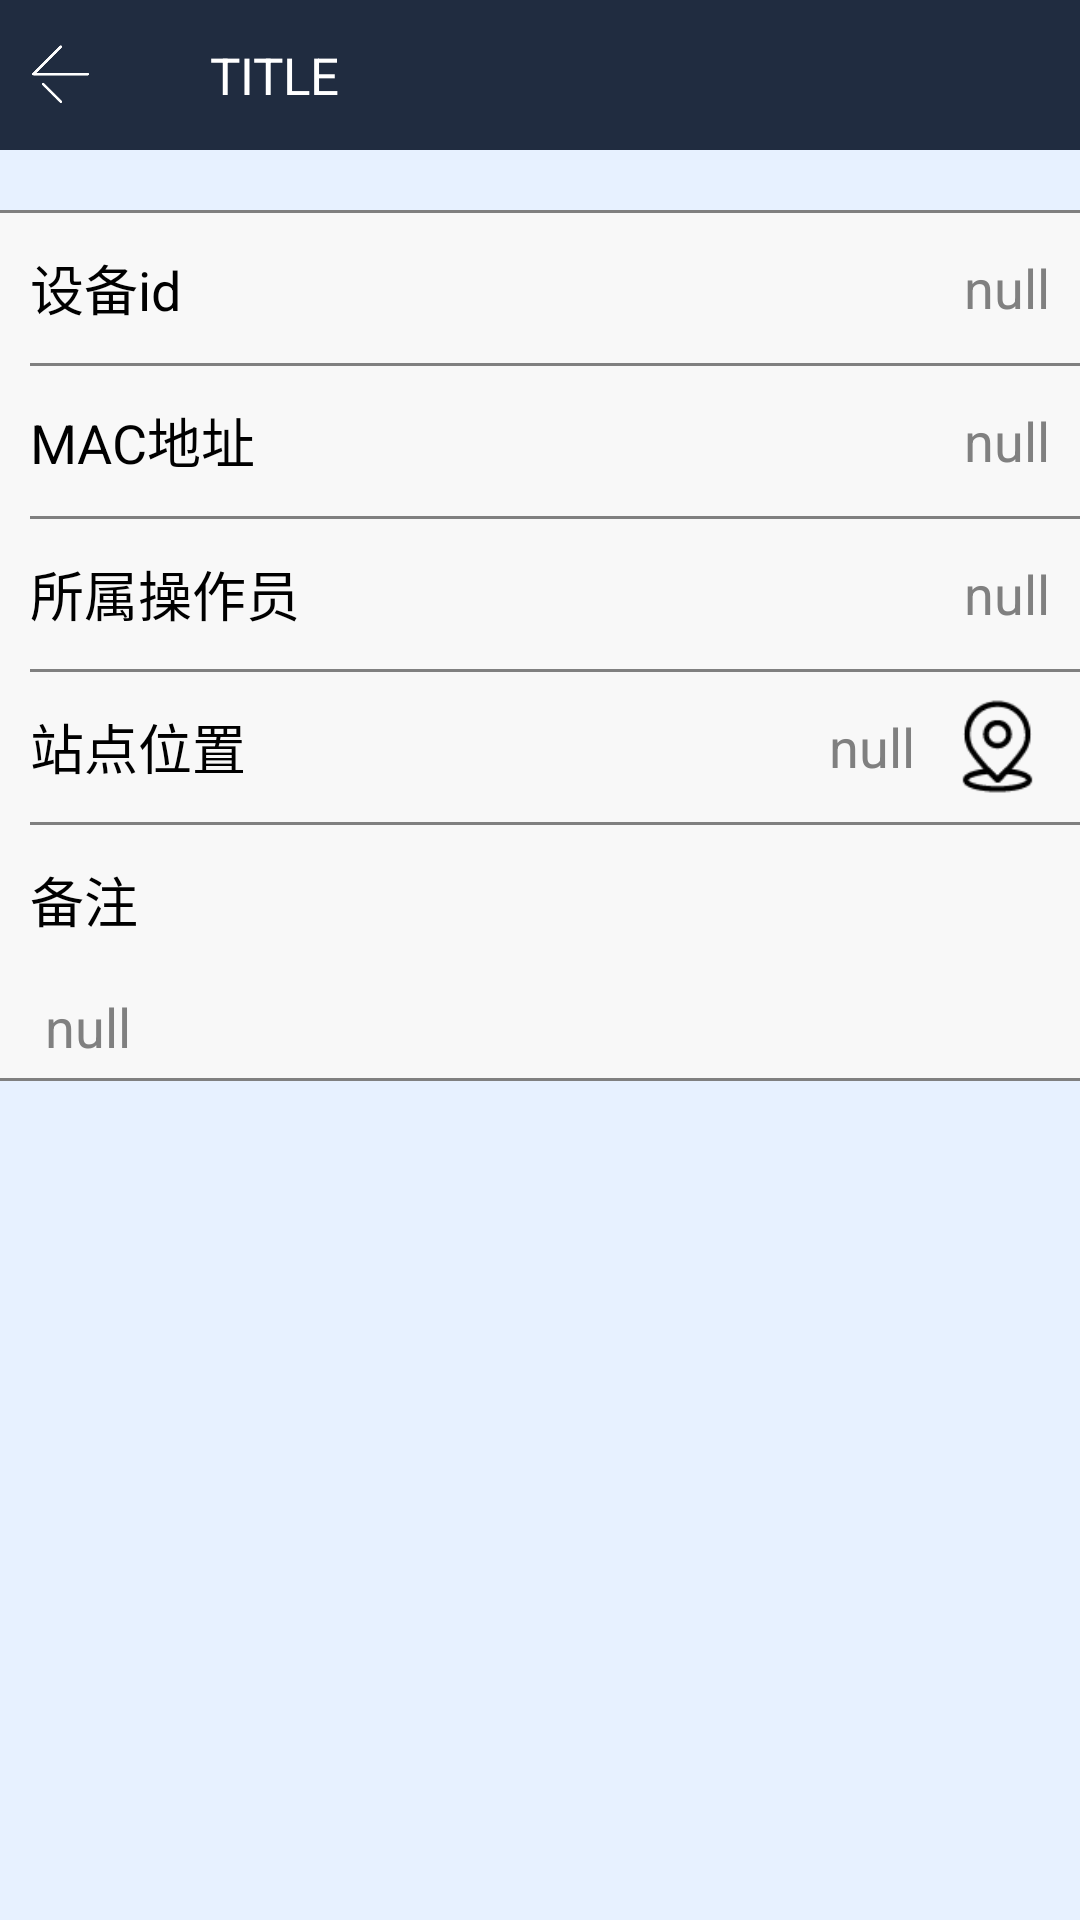

Icon click points for this 1080*1920 phone screenshot, format [x,y]:
back: [60,74]
location: [997,746]
